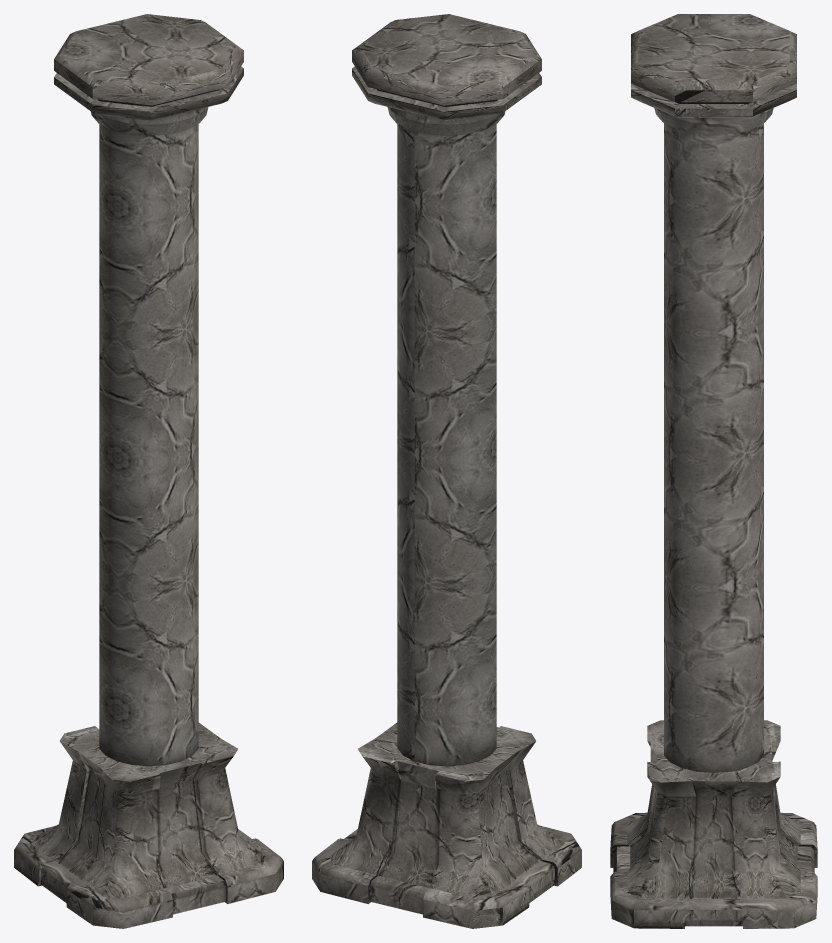
The model's file is ColonneFull 1.FBX.
3 renders of one model, left to right at view 1: azimuth 30°, elevation 25°; view 2: azimuth 150°, elevation 25°; view 3: azimuth 270°, elevation 25°, orthographic.
Parts seen in each view (by area): view 1: Column_Full003; view 2: Column_Full003; view 3: Column_Full003.
Part boxes in pixels (x1,y1,x2,y2): Column_Full003: [14, 14, 283, 928]; Column_Full003: [312, 14, 581, 928]; Column_Full003: [610, 14, 817, 928].
Size of the model in its own units: 245 by 1000 by 225.
